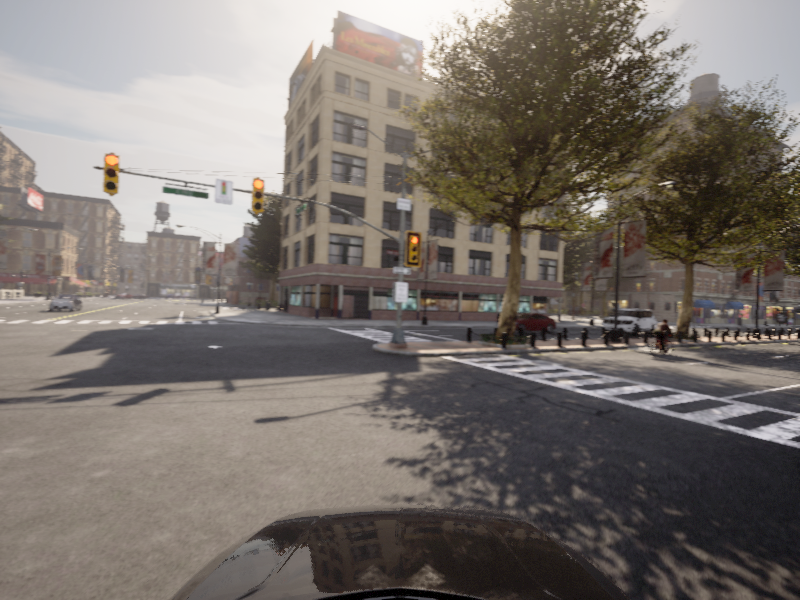vehicle: (598, 307, 659, 337), (494, 311, 560, 333), (643, 318, 680, 357), (45, 293, 84, 312)
